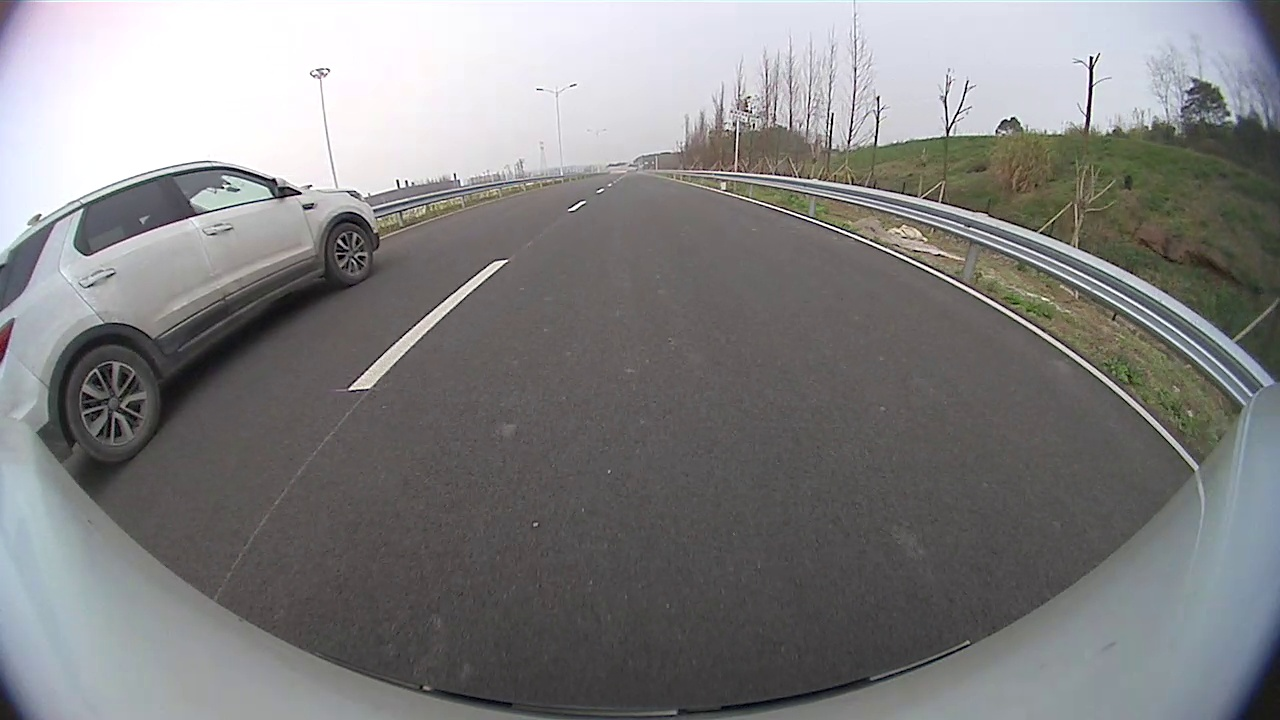car: (1, 160, 380, 463)
front: (324, 221, 375, 287)
rear: (63, 345, 164, 462)
